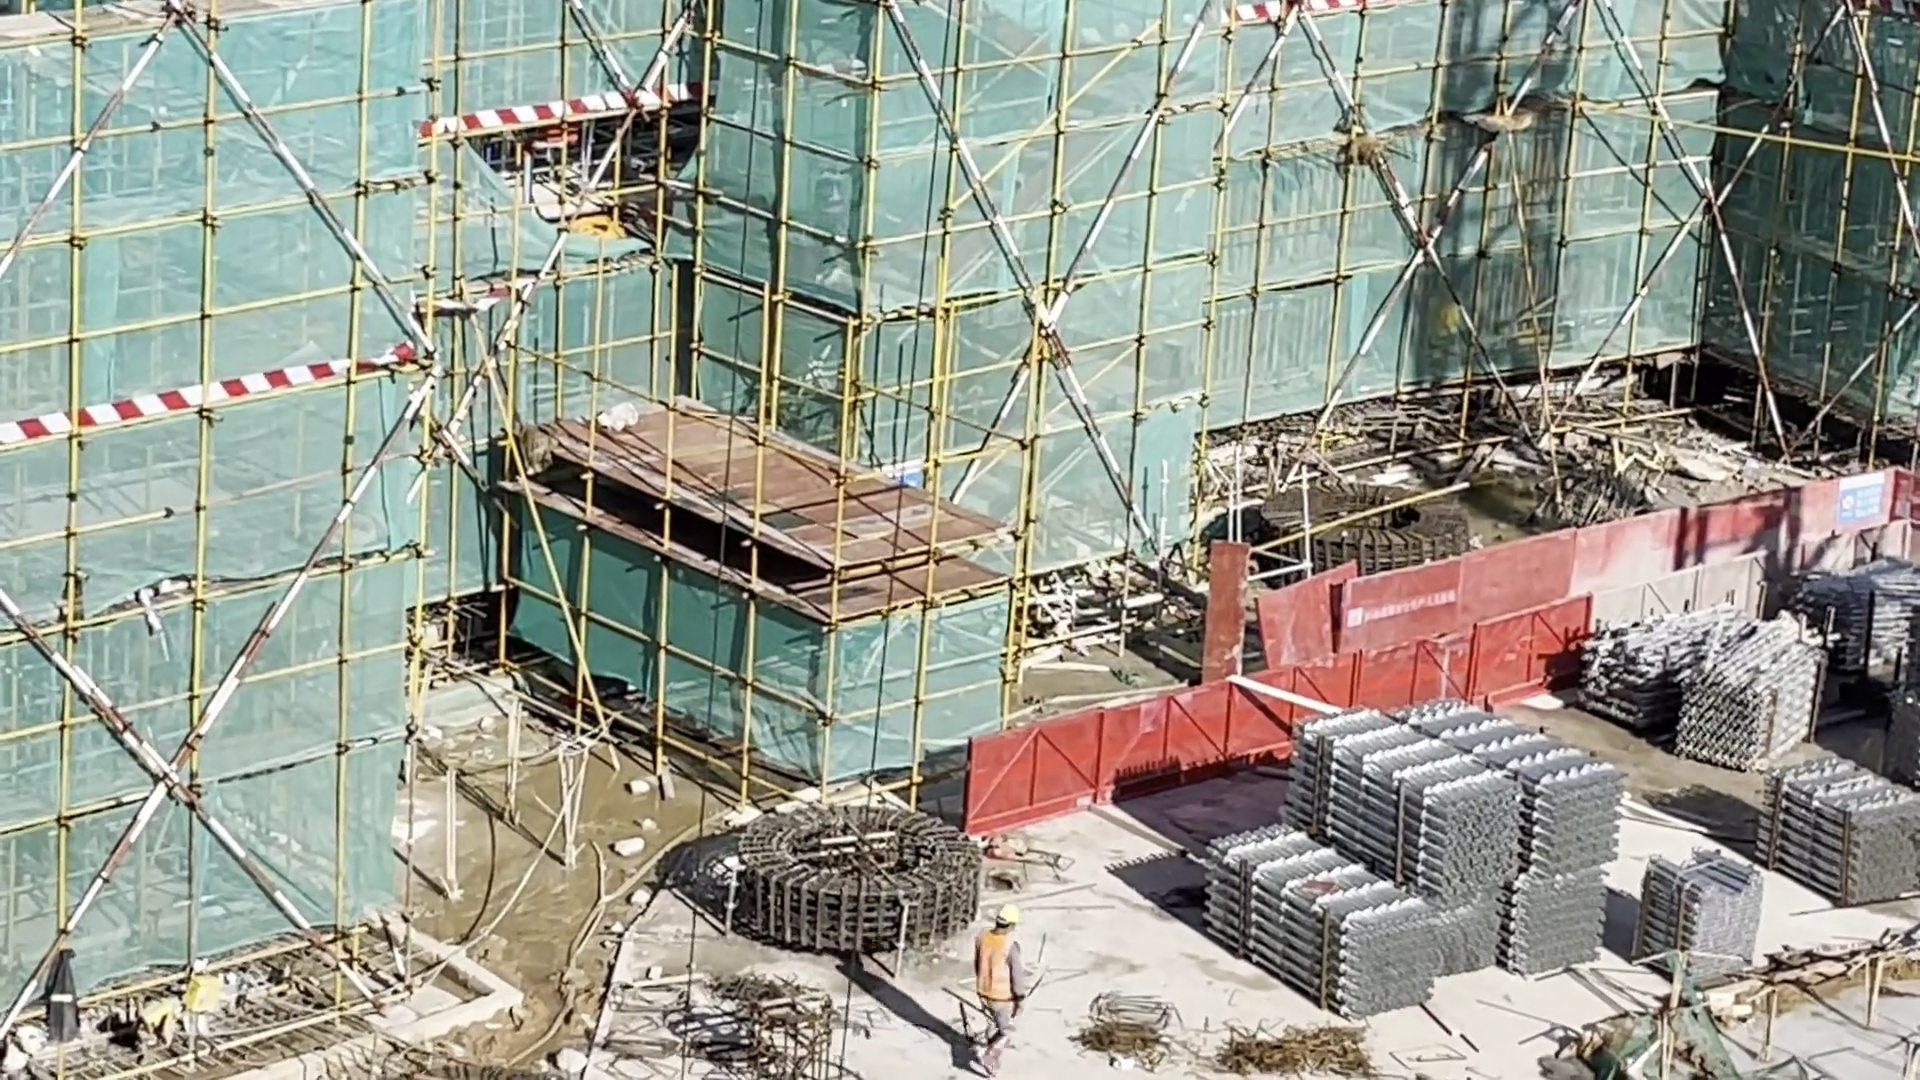fence: (963, 522, 1920, 840)
helmet: (992, 894, 1026, 931)
person: (973, 900, 1021, 1068)
scaffold: (1195, 705, 1622, 1022), (1631, 613, 1825, 771), (1757, 753, 1920, 902), (1634, 839, 1773, 993), (1800, 565, 1920, 672)
vest: (971, 935, 1015, 998)
